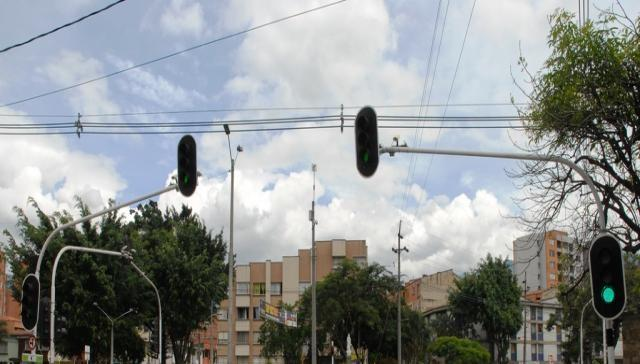green_light: (587, 234, 627, 319), (355, 105, 379, 177), (177, 134, 198, 197)
